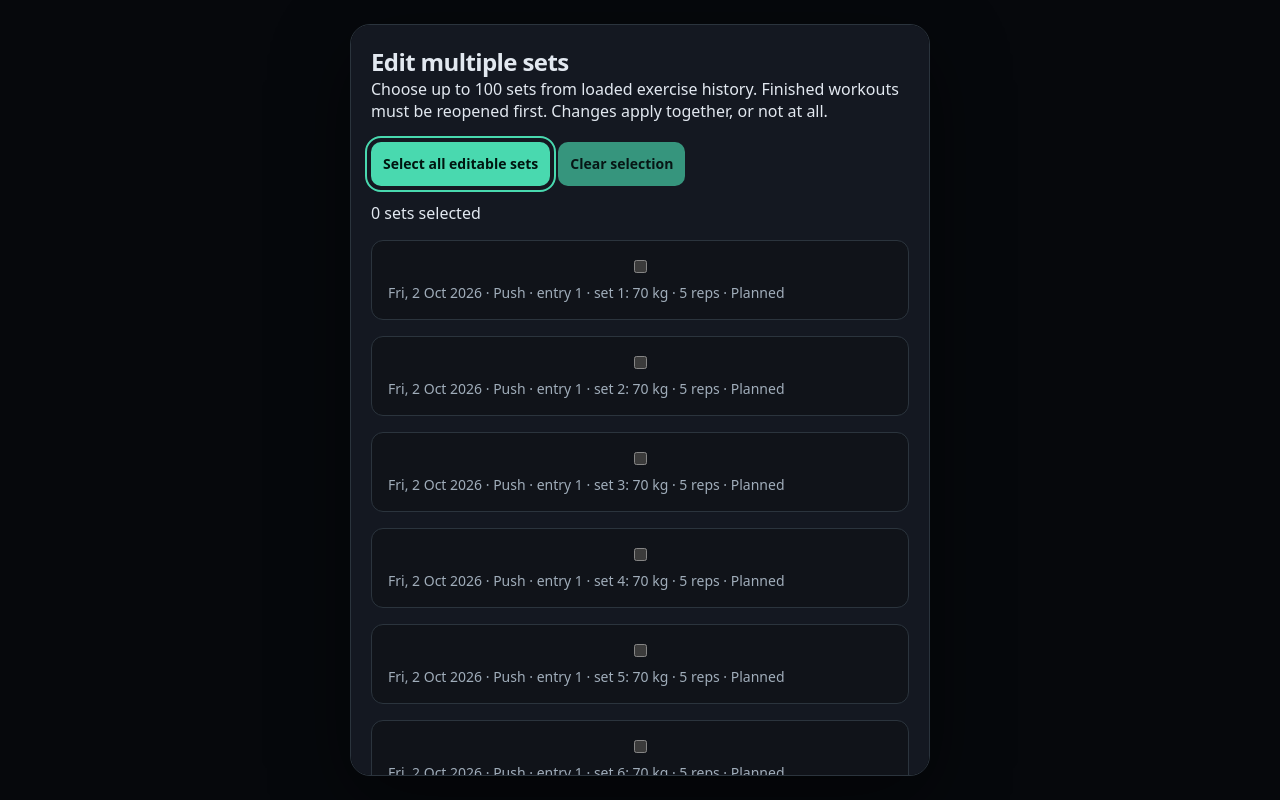
caps Select all at 100 without selecting unseen rows
Step 1. Click the button "Select all editable sets" → point(461, 164), box [371, 142, 550, 186]
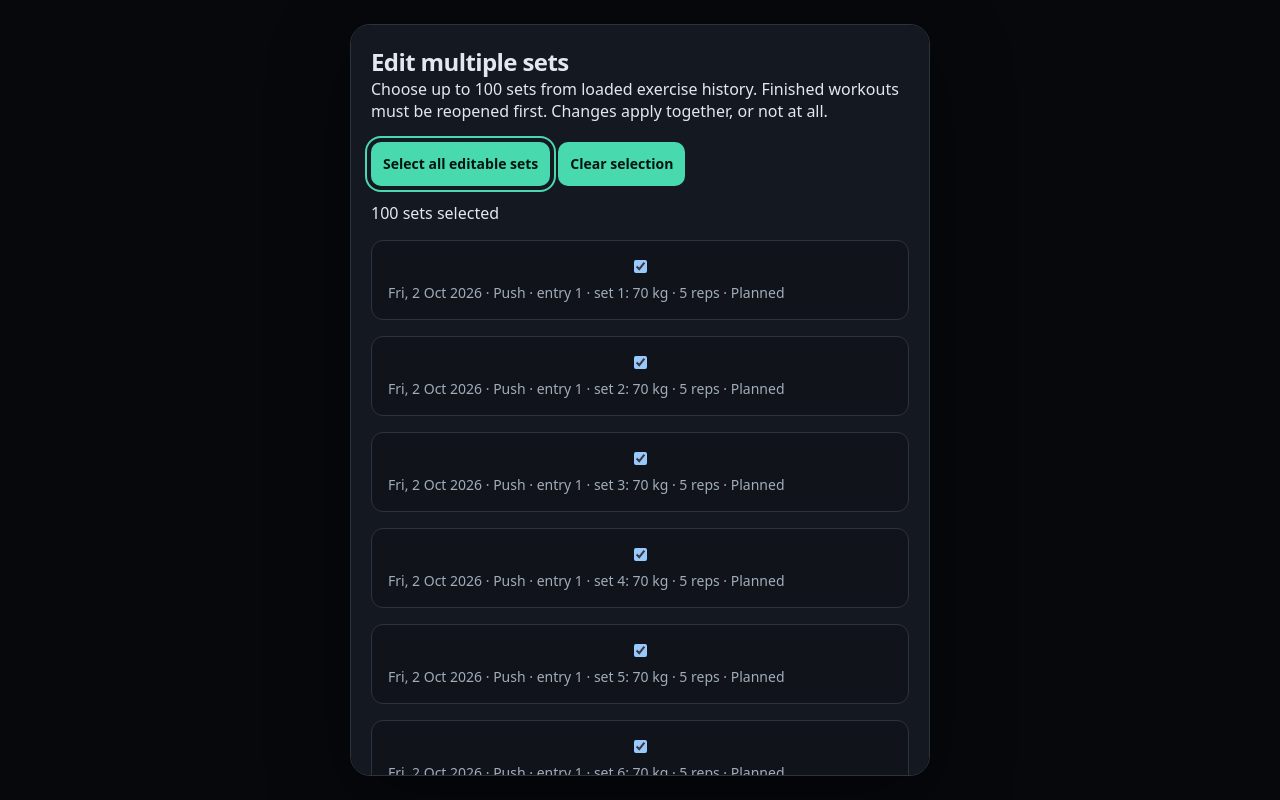
Now the message reads "100 sets selected", box [371, 202, 499, 224]
Step 2. Click the button "Clear selection" → point(622, 164), box [558, 142, 685, 186]
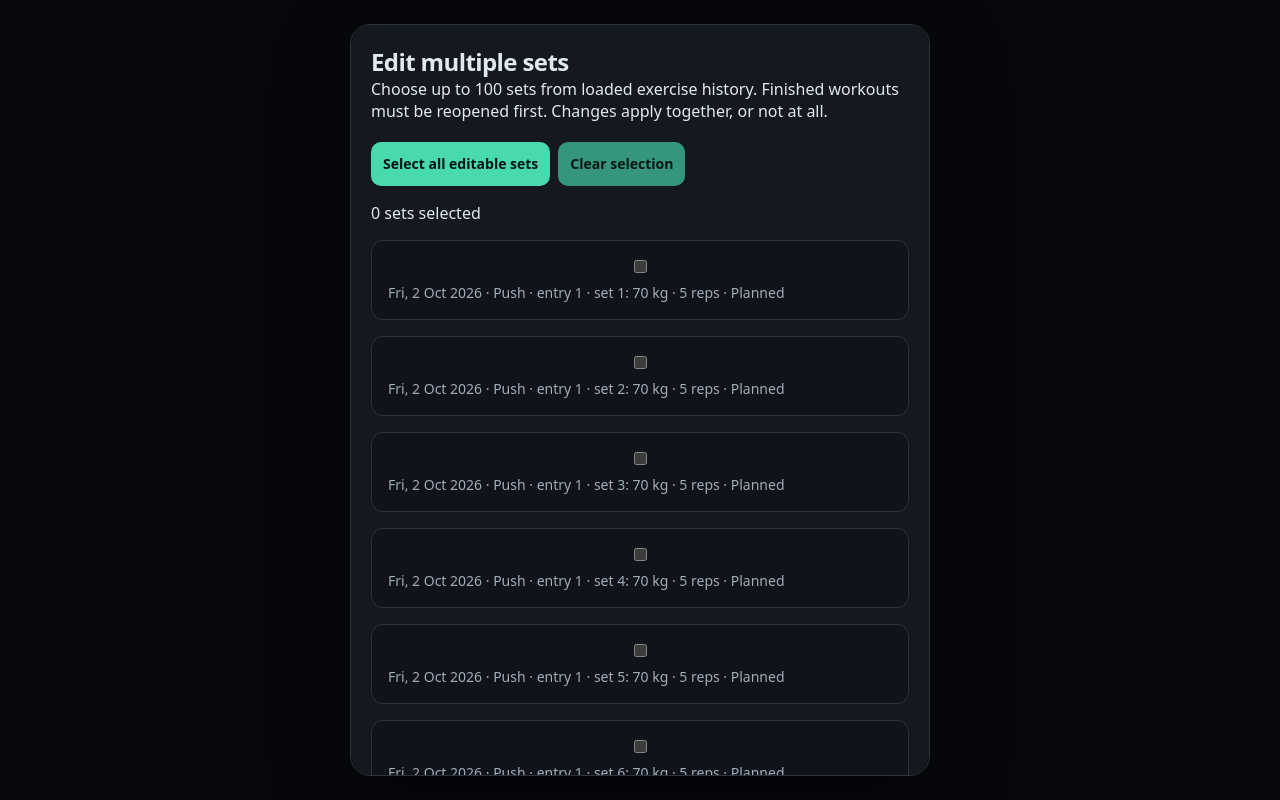
Now the message reads "0 sets selected", box [371, 202, 481, 224]
